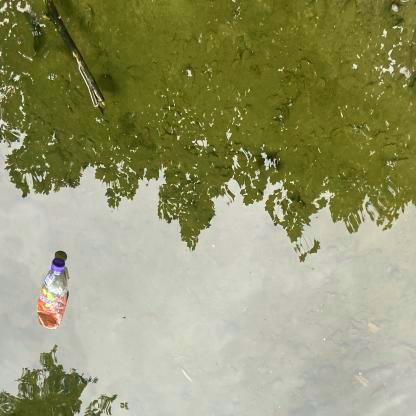Plastic: (31, 247, 74, 335)
